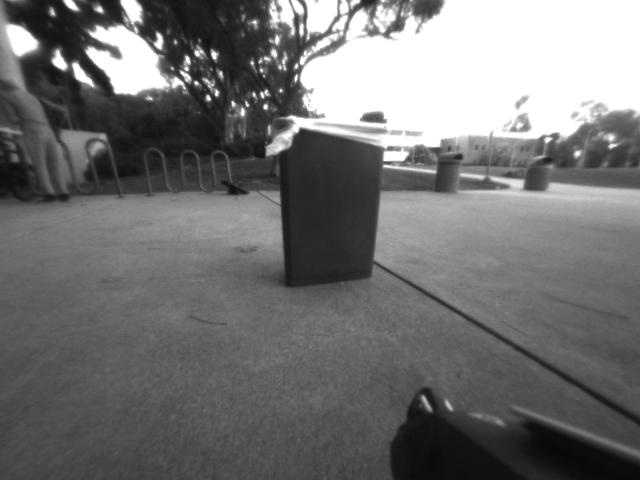trashcan: (261, 110, 401, 300)
